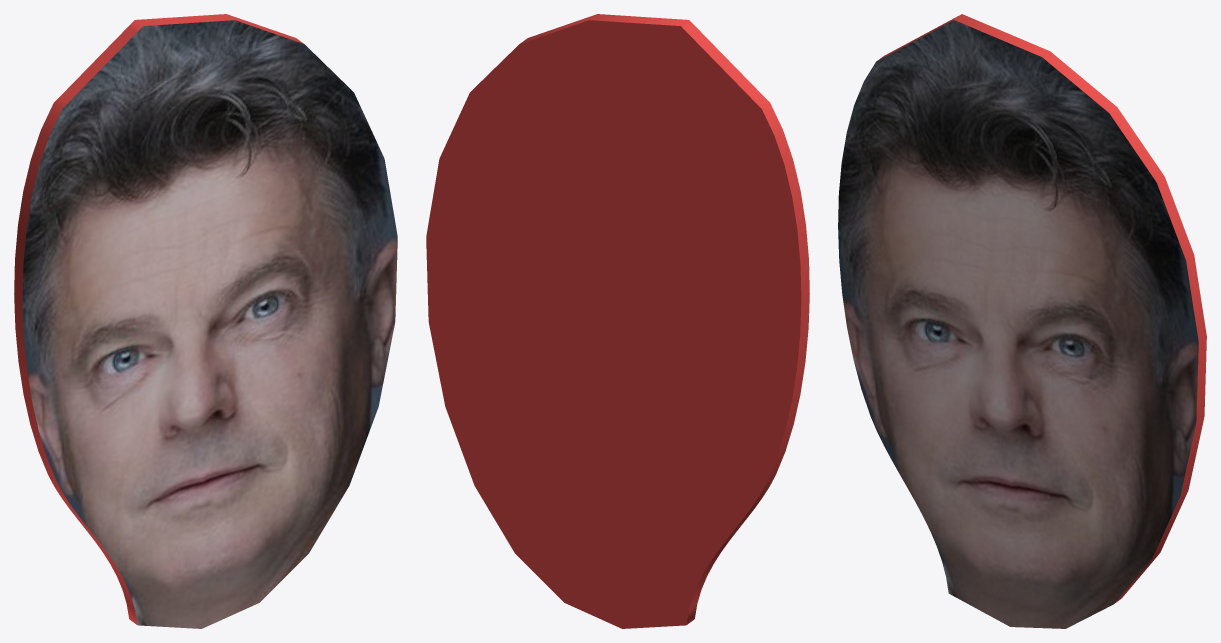
Rendered from Fabien_Roussell.glb.
The picture shows the model from 3 angles, left to right: view 1: azimuth 30°, elevation 25°; view 2: azimuth 150°, elevation 25°; view 3: azimuth 330°, elevation 25°; orthographic projection. The views are drawn at different scales.
Visible parts, largest first — view 1: Curve; view 2: Curve; view 3: Curve.
Part boxes in pixels (x1=…): Curve: x1=14, y1=14, x2=397, y2=628; Curve: x1=426, y1=14, x2=809, y2=628; Curve: x1=838, y1=14, x2=1206, y2=628.
Size of the model in its own units: 0.3846 by 0.6043 by 0.015.
Materials: 2 (1 with a texture image).
